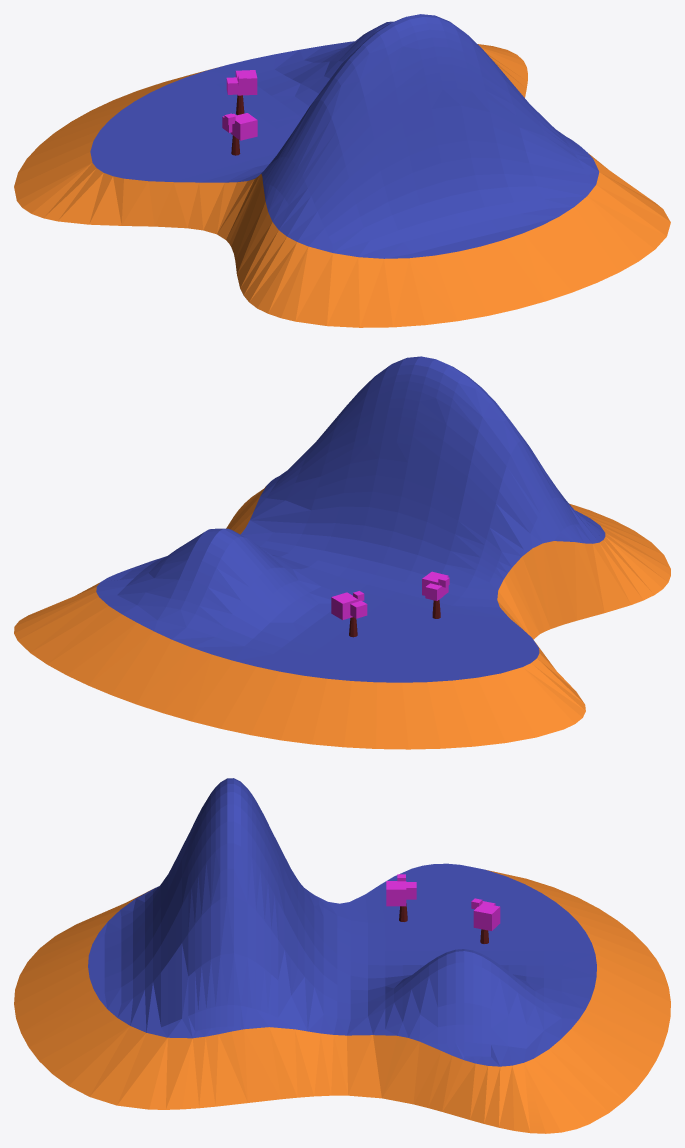
3 renders of one model, top to bottom at view 1: azimuth 30°, elevation 25°; view 2: azimuth 150°, elevation 25°; view 3: azimuth 270°, elevation 25°, orthographic. The views are drawn at different scales.
Visible parts, largest first — view 1: Object_6, Object_7, Object_5, Object_3; view 2: Object_6, Object_7, Object_3, Object_5; view 3: Object_6, Object_7, Object_5, Object_3.
Boxes of the visible parts, x1,y1,x2,y2 form: Object_6: [90, 14, 599, 258]; Object_7: [14, 44, 670, 327]; Object_5: [222, 113, 257, 140]; Object_3: [226, 70, 257, 95]; Object_6: [96, 356, 605, 682]; Object_7: [14, 486, 670, 749]; Object_3: [331, 591, 367, 620]; Object_5: [422, 571, 449, 600]; Object_6: [88, 778, 596, 1066]; Object_7: [14, 870, 670, 1133]; Object_5: [386, 874, 416, 906]; Object_3: [471, 898, 500, 930].
Bounding box in the file's own units: 86.74 × 33.64 × 91.65.
